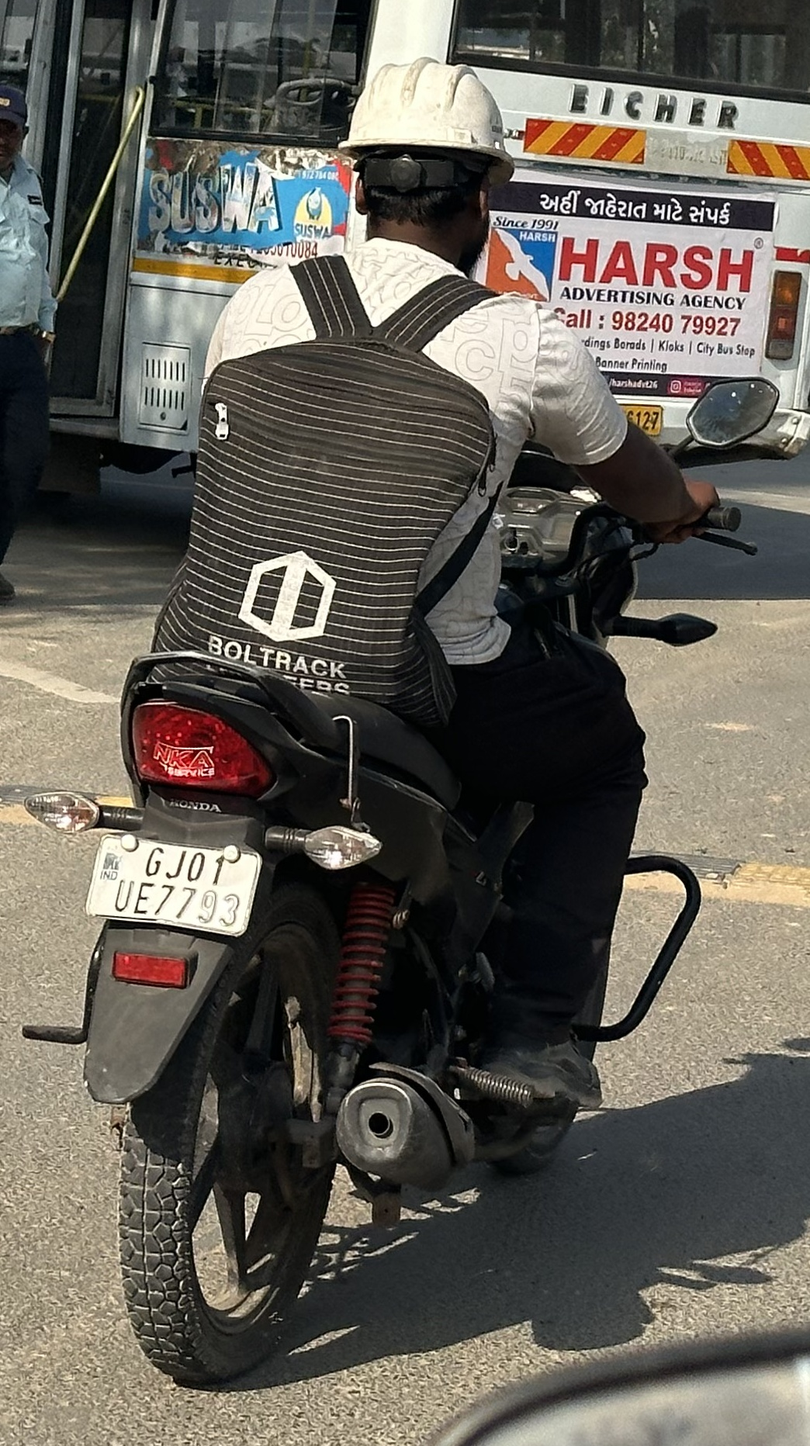BikeWithRider: (16, 39, 788, 1397)
Helmet: (319, 45, 536, 280)
